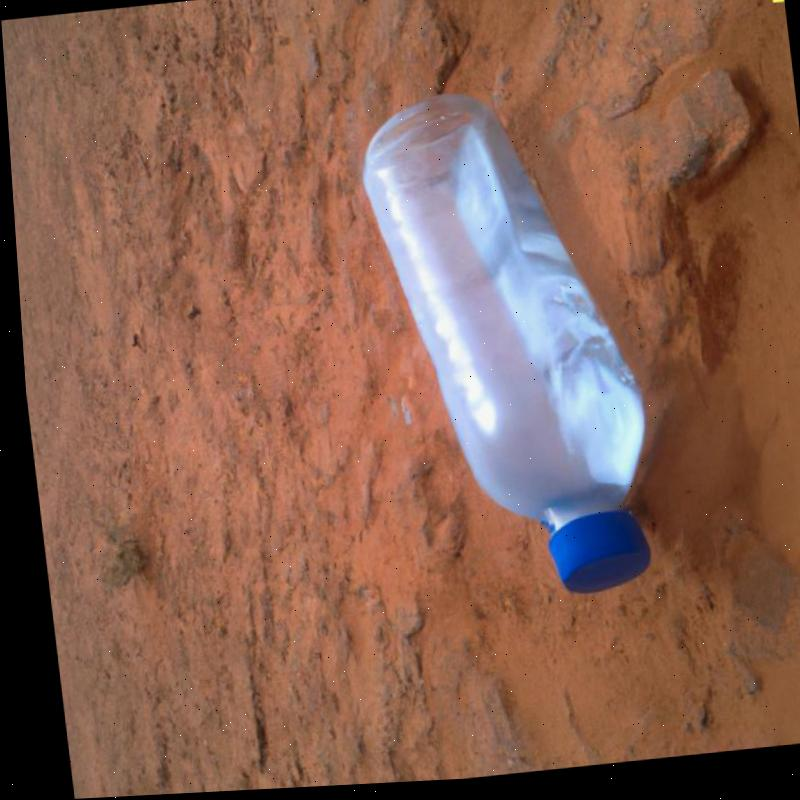botella: (347, 85, 660, 616)
